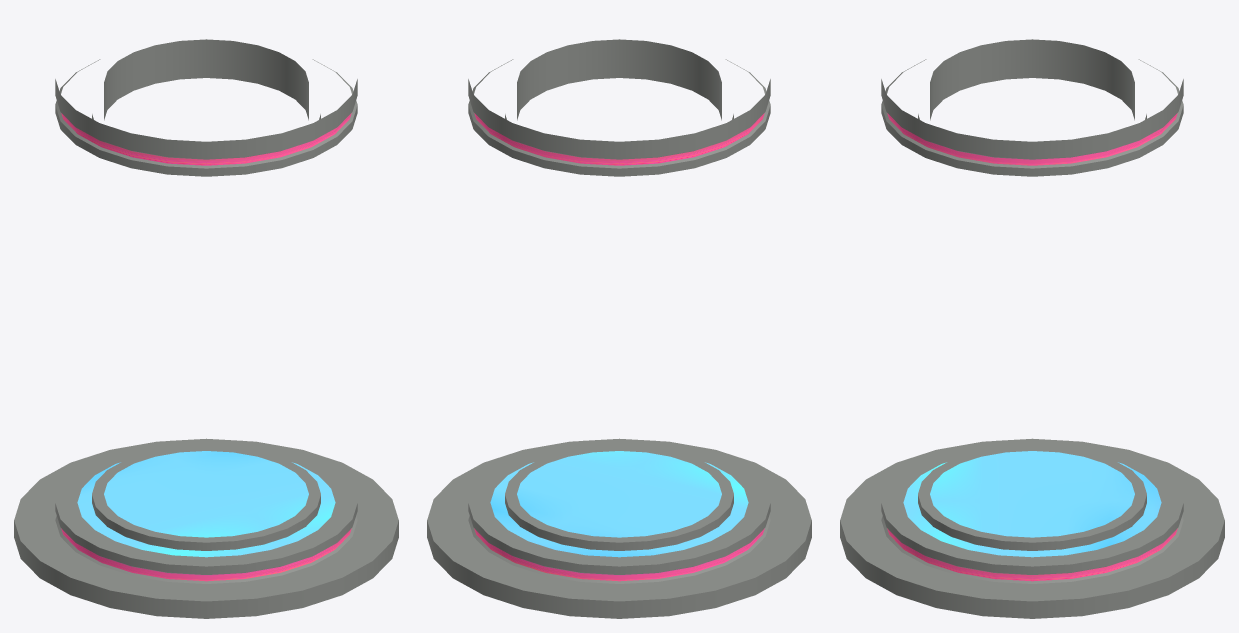
Rendered from 44d8d1c8-bd19-4e6d-9300-ed7ea499bfd0.glb.
3 views of the same model, side by side, from view 1: azimuth 30°, elevation 25°; view 2: azimuth 150°, elevation 25°; view 3: azimuth 270°, elevation 25° (orthographic).
Parts seen in each view (by area): view 1: DancePodium; view 2: DancePodium; view 3: DancePodium.
Boxes of the visible parts, x1,y1,x2,y2 form: DancePodium: (14,39,398,618); DancePodium: (427,39,811,618); DancePodium: (840,39,1224,618).
Size of what is drawn, in the model's own units: 3.52 by 4.64 by 3.52.
Materials: 1 (1 with a texture image).
